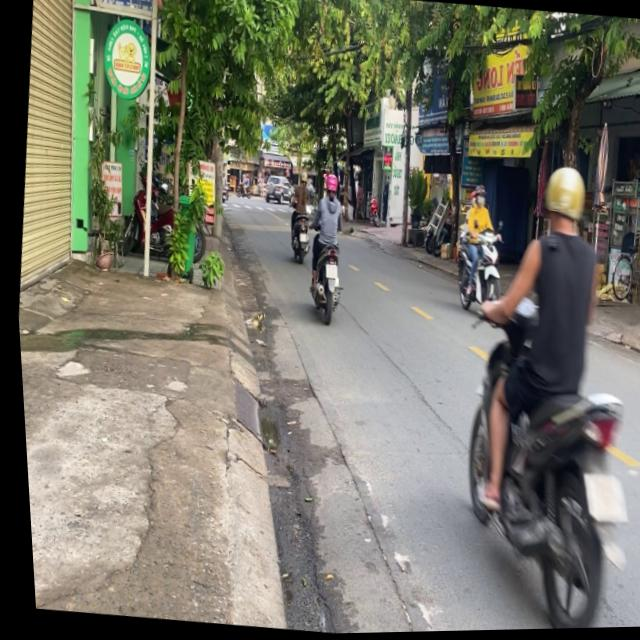helmet: (535, 162, 588, 237), (320, 171, 336, 197)
licenseplate: (424, 150, 640, 633), (295, 170, 352, 323)
nohelmet: (573, 473, 623, 523), (320, 262, 334, 278)
